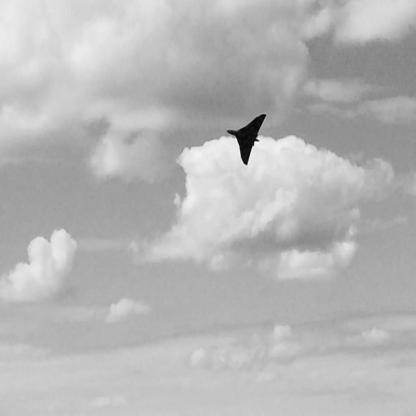Vulcan: (227, 115, 268, 167)
